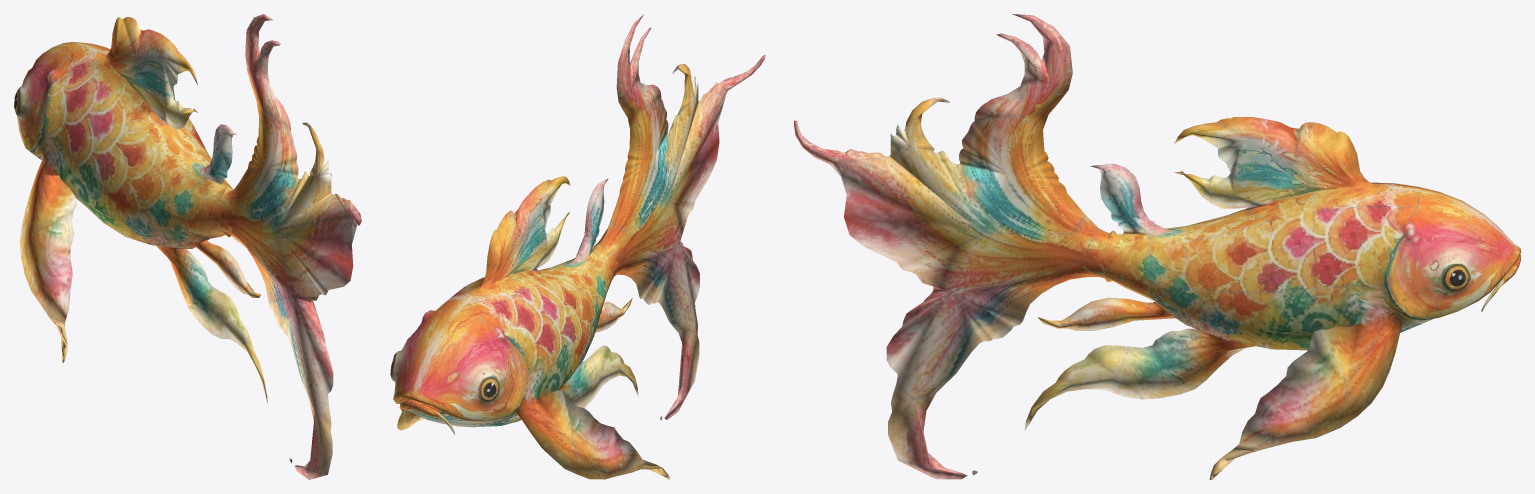
File: 浮金鱼影.glb
The picture shows the model from 3 angles, left to right: view 1: azimuth 30°, elevation 25°; view 2: azimuth 150°, elevation 25°; view 3: azimuth 270°, elevation 25°; orthographic projection. The views are drawn at different scales.
Parts seen in each view (by area): view 1: tripo_node_19d92d3d-fdc6-4a3e-a5b0-30caebbd7966; view 2: tripo_node_19d92d3d-fdc6-4a3e-a5b0-30caebbd7966; view 3: tripo_node_19d92d3d-fdc6-4a3e-a5b0-30caebbd7966.
Part boxes in pixels (x1,y1,x2,y2): tripo_node_19d92d3d-fdc6-4a3e-a5b0-30caebbd7966: (14,14,361,479); tripo_node_19d92d3d-fdc6-4a3e-a5b0-30caebbd7966: (390,14,765,479); tripo_node_19d92d3d-fdc6-4a3e-a5b0-30caebbd7966: (794,14,1520,479).
Size of the model in its own units: 0.4043 by 0.7051 by 0.998.
1 material, 1 textured.
